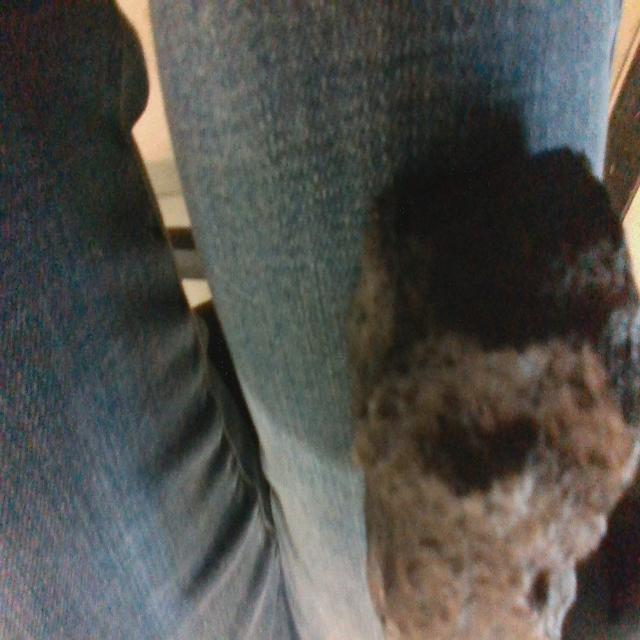stone: (345, 143, 640, 639)
